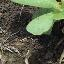Purslane: (1, 0, 64, 48)
